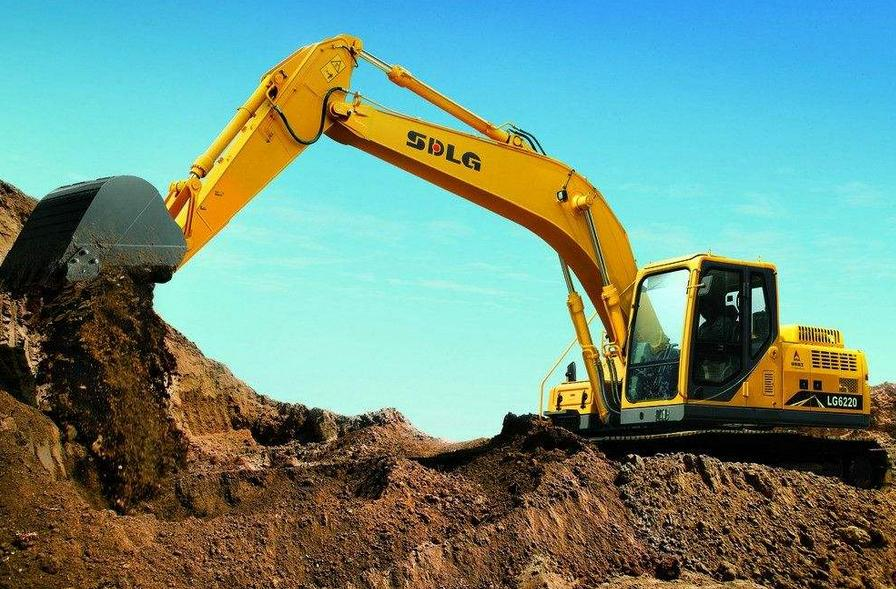excavator: (15, 21, 896, 489)
